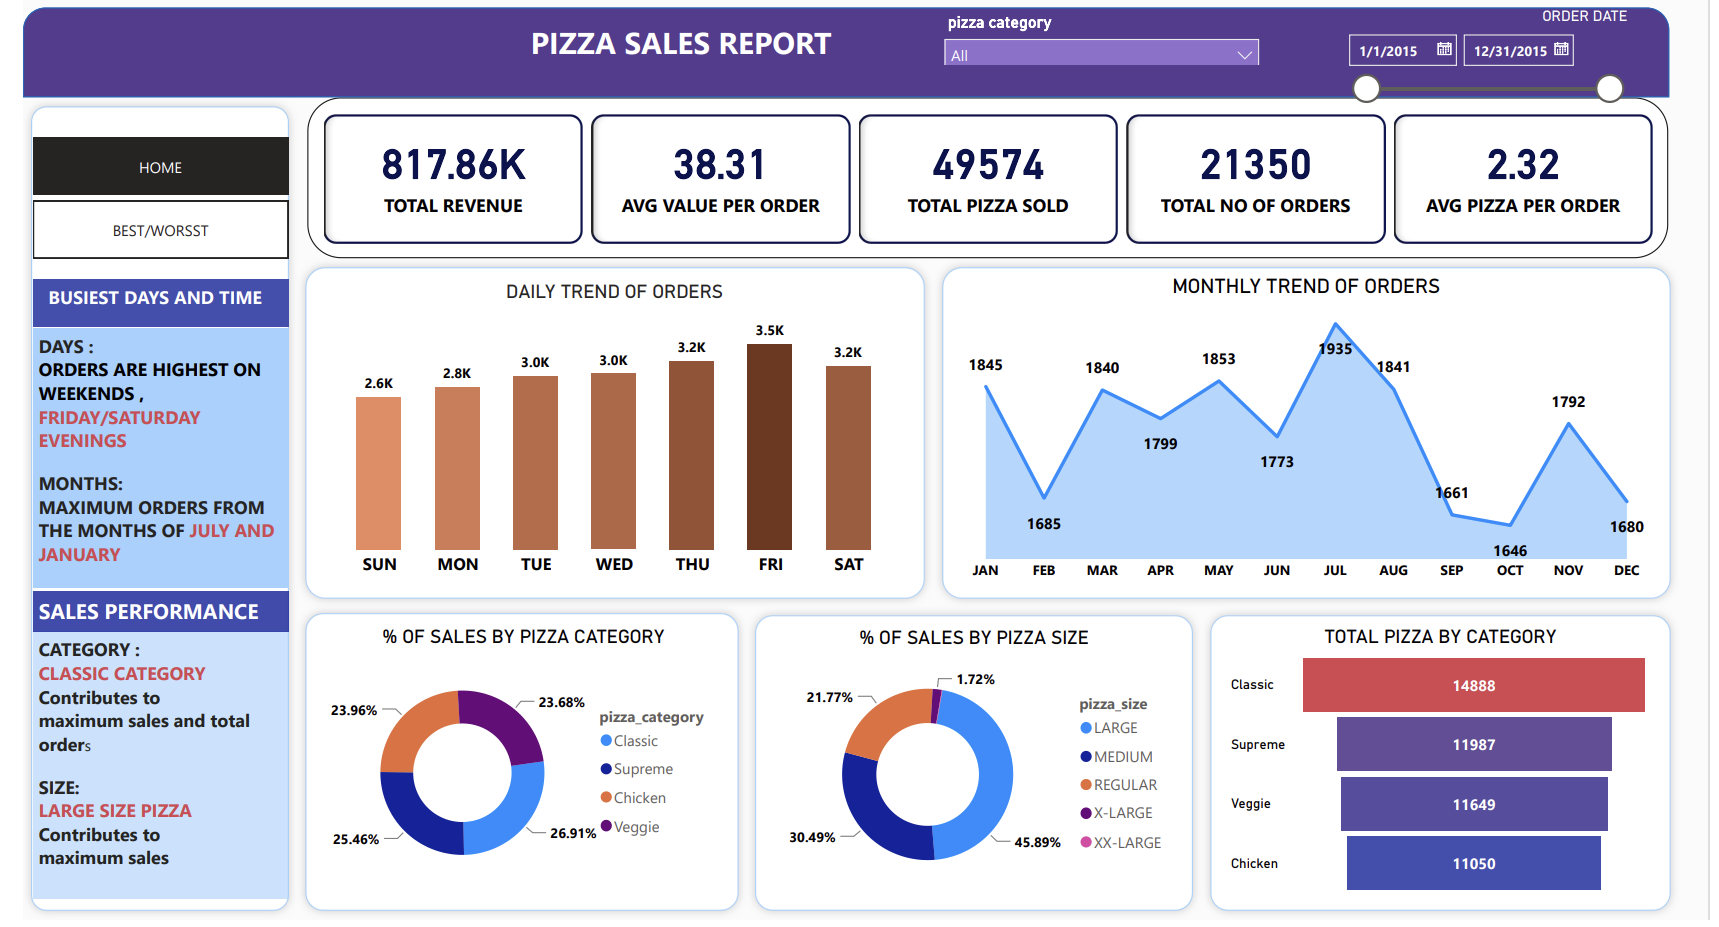

What the dashboard file says about the page in this screenshot:
{"tool":"powerbi","page":{"name":"HOME","canvas":[1500,820],"ordinal":0},"visuals":[{"type":"cardVisual","fields":{"Data":["pizza_sales.TOTAL REVENUE","pizza_sales.AVG VALUE PER ORDER","pizza_sales.TOTAL PIZZA SOLD","pizza_sales.TOTAL NO OF ORDERS","pizza_sales.AVG PIZZA PER ORDER"]},"box":[253.1,88.9,1211.1,143.2],"z":0},{"type":"shape","box":[0,8.6,1465.4,80.2],"z":1000},{"type":"textbox","box":[445.7,16,287.7,51.9],"z":2000},{"type":"shape","box":[244.4,232.1,565.4,309.9],"z":3000},{"type":"columnChart","title":"DAILY TREND OF ORDERS","fields":{"Category":["pizza_sales.ORDER DAY"],"Y":["pizza_sales.TOTAL NO OF ORDERS"]},"box":[264.2,250.6,524.7,274.1],"z":4000},{"type":"shape","box":[809.9,232.1,664.2,309.9],"z":5000},{"type":"areaChart","title":"MONTHLY TREND OF ORDERS","fields":{"Category":["pizza_sales.ORDER MONTH"],"Y":["pizza_sales.TOTAL NO OF ORDERS"]},"box":[830.9,245.7,622.2,282.7],"z":6000},{"type":"shape","box":[1049.4,542,424.7,277.8],"z":7000},{"type":"shape","box":[644.4,542,404.9,277.8],"z":8000},{"type":"shape","box":[244.4,539.5,400,280.2],"z":9000},{"type":"donutChart","title":"% OF SALES BY PIZZA CATEGORY","fields":{"Category":["pizza_sales.pizza_category"],"Y":["pizza_sales.TOTAL REVENUE"]},"box":[264.2,558,363,244.4],"z":10000},{"type":"donutChart","title":"% OF SALES BY PIZZA  SIZE","fields":{"Y":["pizza_sales.TOTAL REVENUE"],"Category":["pizza_sales.pizza_size"]},"box":[665.4,559.3,363,244.4],"z":11000},{"type":"funnel","title":"TOTAL PIZZA BY CATEGORY","fields":{"Y":["pizza_sales.TOTAL PIZZA SOLD"],"Category":["pizza_sales.pizza_category"]},"box":[1070.4,558,382.7,245.7],"z":12000},{"type":"shape","box":[0,88.9,244.4,730.9],"z":13000},{"type":"textbox","box":[8.6,564.2,227.2,238.3],"z":14000},{"type":"textbox","box":[8.6,528.4,227.2,35.8],"z":15000},{"type":"textbox","box":[8.6,293.8,227.2,230.9],"z":16000},{"type":"textbox","box":[8.6,250.6,227.2,42],"z":17000},{"type":"slicer","fields":{"Values":["pizza_sales.pizza_category"]},"box":[809.9,8.6,300,51.9],"z":18000},{"type":"slicer","title":"ORDER DATE","fields":{"Values":["pizza_sales.order_date"]},"box":[1166.7,8.6,266.7,91.4],"z":19000},{"type":"pageNavigator","box":[8.6,124.7,227.2,50.6],"z":19001},{"type":"pageNavigator","box":[8.6,181.5,227.2,50.6],"z":19002}]}

Visuals, with their boxes in screenshot pixels (x1, y1, x2, y2), scaled from the page's 1500x820 canvas onto the 1719x927 screenshot:
cardVisual - pizza_sales.TOTAL REVENUE x pizza_sales.AVG VALUE PER ORDER: select_region(290, 101, 1678, 262)
shape: select_region(0, 10, 1679, 100)
textbox: select_region(511, 18, 840, 77)
shape: select_region(280, 262, 928, 613)
"DAILY TREND OF ORDERS" columnChart: select_region(303, 283, 904, 593)
shape: select_region(928, 262, 1689, 613)
"MONTHLY TREND OF ORDERS" areaChart: select_region(952, 278, 1665, 597)
shape: select_region(1203, 613, 1689, 926)
shape: select_region(738, 613, 1202, 926)
shape: select_region(280, 610, 738, 926)
"% OF SALES BY PIZZA CATEGORY" donutChart: select_region(303, 631, 719, 907)
"% OF SALES BY PIZZA  SIZE" donutChart: select_region(763, 632, 1179, 909)
"TOTAL PIZZA BY CATEGORY" funnel: select_region(1227, 631, 1665, 909)
shape: select_region(0, 101, 280, 926)
textbox: select_region(10, 638, 270, 907)
textbox: select_region(10, 597, 270, 638)
textbox: select_region(10, 332, 270, 593)
textbox: select_region(10, 283, 270, 331)
slicer - pizza_sales.pizza_category: select_region(928, 10, 1272, 68)
"ORDER DATE" slicer: select_region(1337, 10, 1643, 113)
pageNavigator: select_region(10, 141, 270, 198)
pageNavigator: select_region(10, 205, 270, 262)
